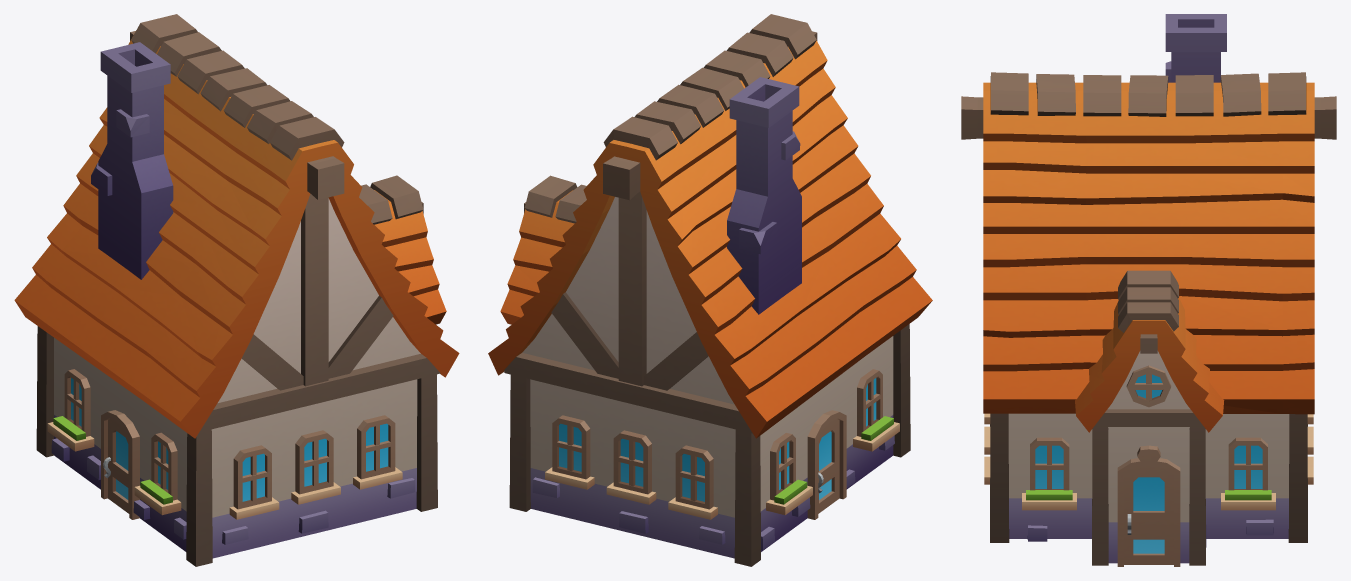
Rendered from cottage.obj.
The picture shows the model from 3 angles, left to right: view 1: azimuth 30°, elevation 25°; view 2: azimuth 150°, elevation 25°; view 3: azimuth 270°, elevation 25°; orthographic projection.
Visible parts, largest first — view 1: cottage; view 2: cottage; view 3: cottage.
Boxes of the visible parts, bbox=[...] form: cottage: bbox=[14, 14, 459, 566]; cottage: bbox=[488, 14, 932, 566]; cottage: bbox=[961, 14, 1336, 566].
Bounding box in the file's own units: 6.75 × 8.47 × 6.82.
1 material, 1 textured.
